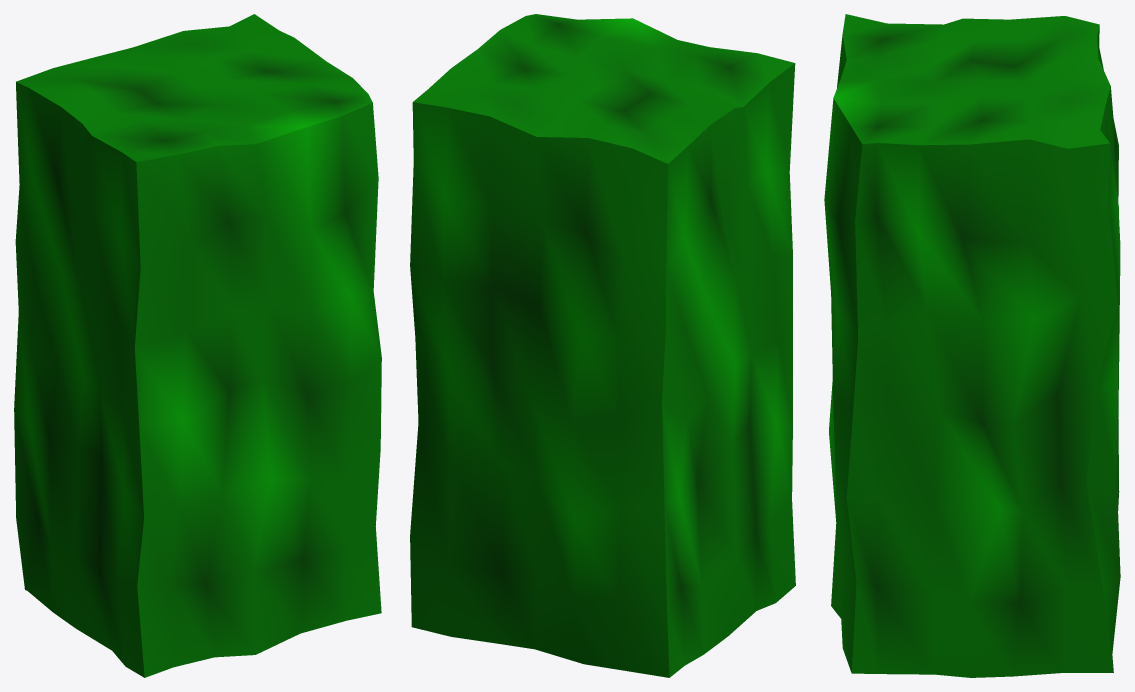
File: Bush2.fbx
3 views of the same model, side by side, from view 1: azimuth 30°, elevation 25°; view 2: azimuth 150°, elevation 25°; view 3: azimuth 270°, elevation 25° (orthographic). The views are drawn at different scales.
Parts seen in each view (by area): view 1: Bush2; view 2: Bush2; view 3: Bush2.
Part boxes in pixels (x1=…): Bush2: x1=14, y1=14, x2=381, y2=677; Bush2: x1=410, y1=14, x2=795, y2=677; Bush2: x1=824, y1=14, x2=1120, y2=677.
Bounding box in the file's own units: 207 × 401 × 200.
